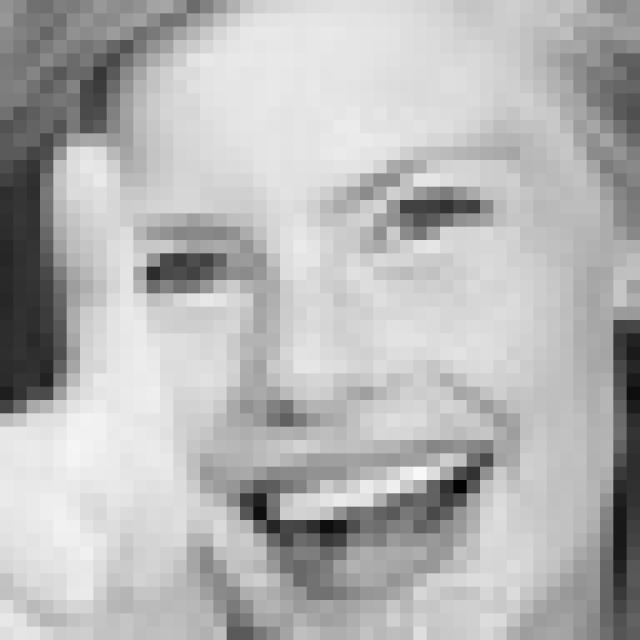happy: (142, 123, 539, 614)
